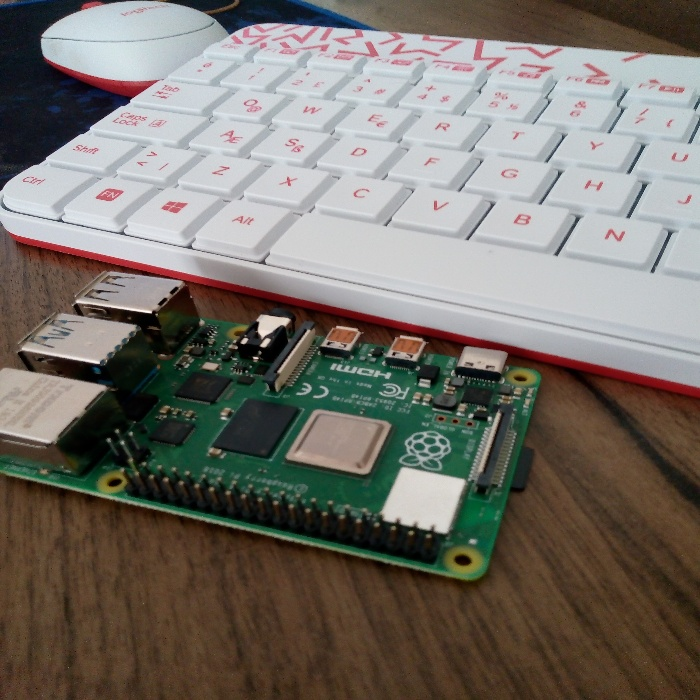raspberry: (7, 264, 521, 579)
